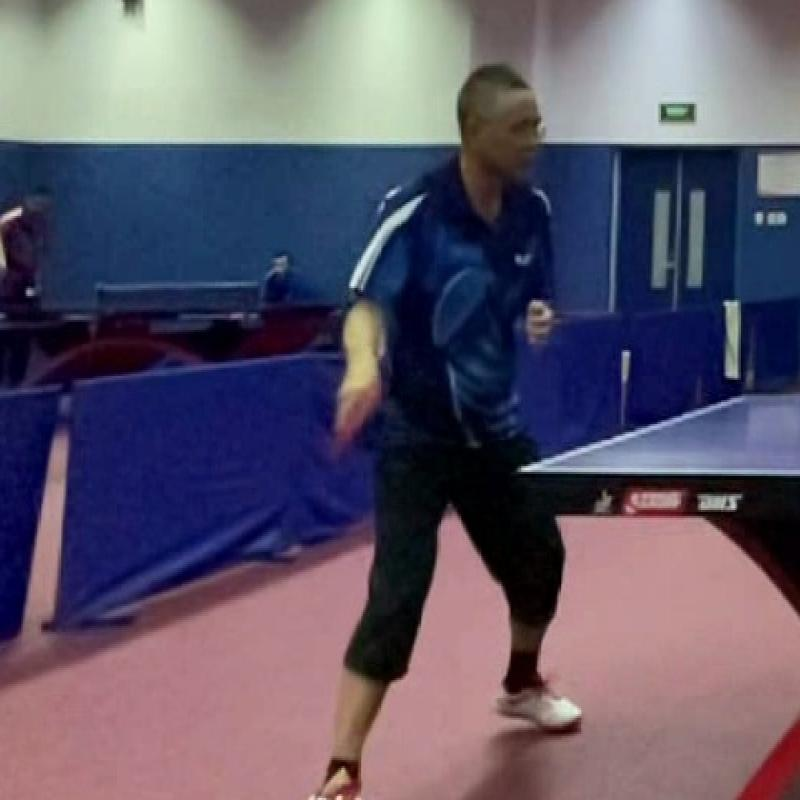bats: (316, 372, 398, 470)
